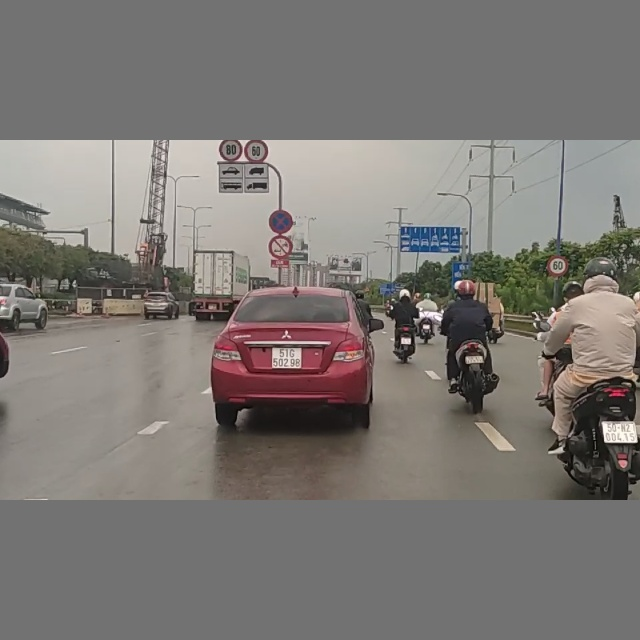B.8a: (268, 235, 293, 257)
P.127*60: (244, 141, 269, 162), (547, 255, 568, 276)
P.127*80: (219, 141, 242, 161)
P.130: (269, 209, 293, 233)
